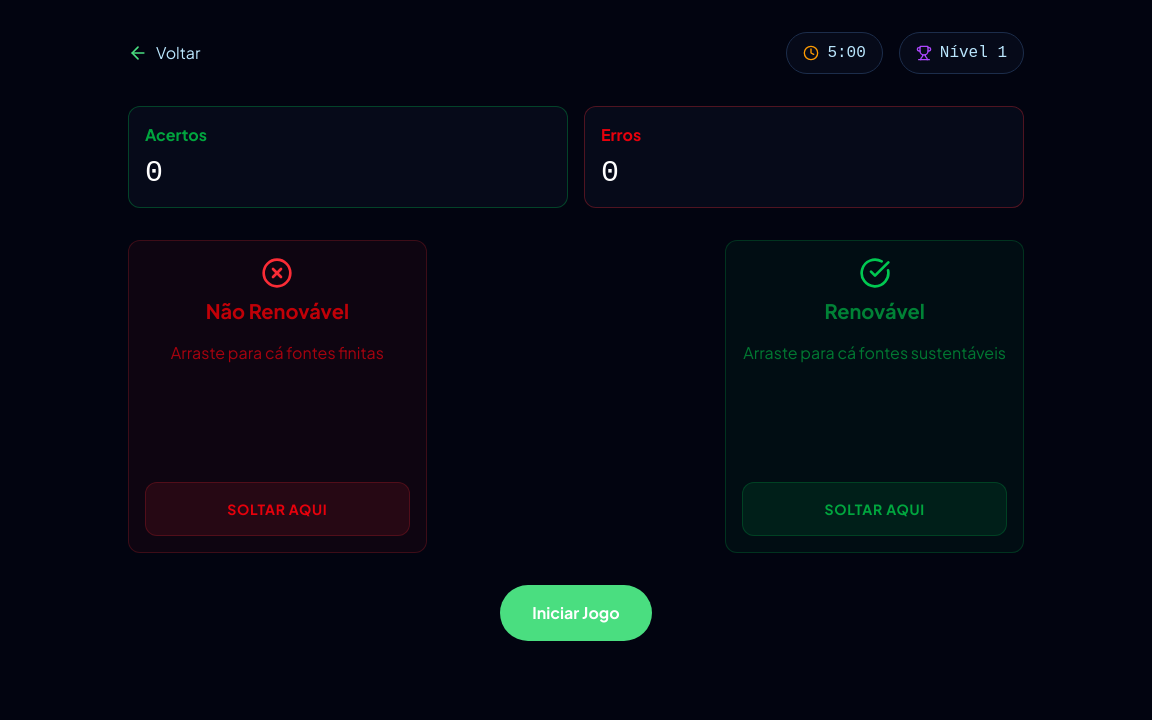
Test: EcoSwipe Game › starts game when start button is clicked
Click the button "Iniciar Jogo": (576, 613) [500,585,652,641]
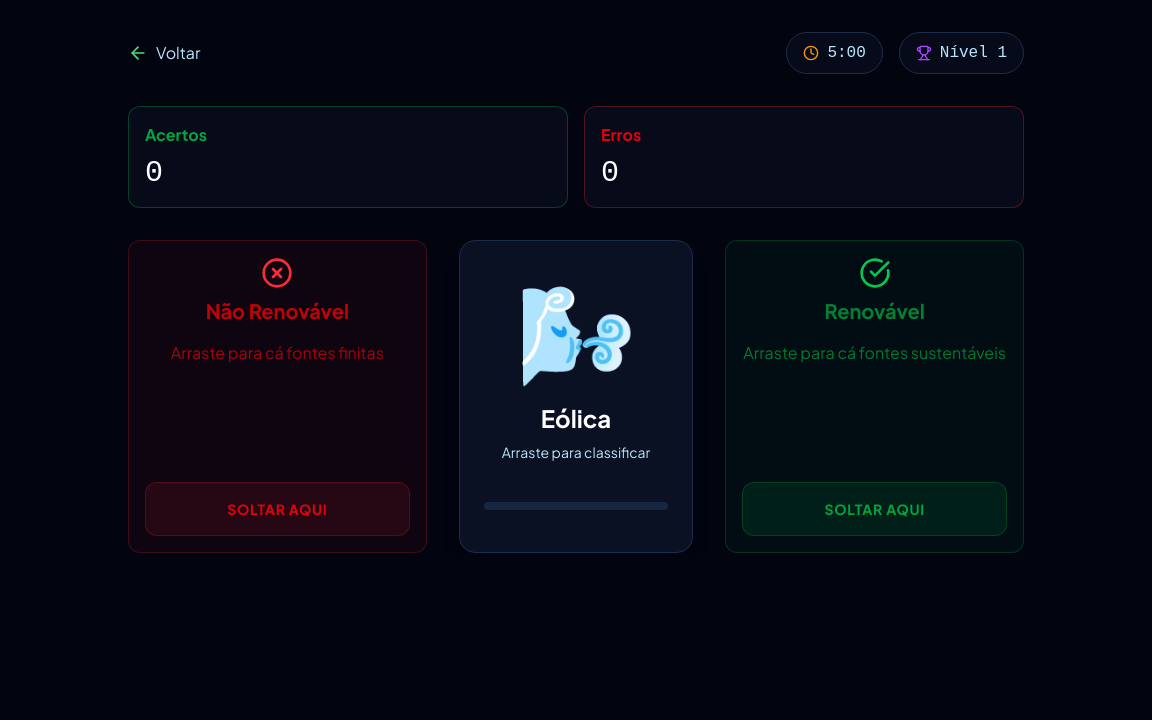
Expected: the text "Arraste para classificar" is shown, [502,442,650,462]
